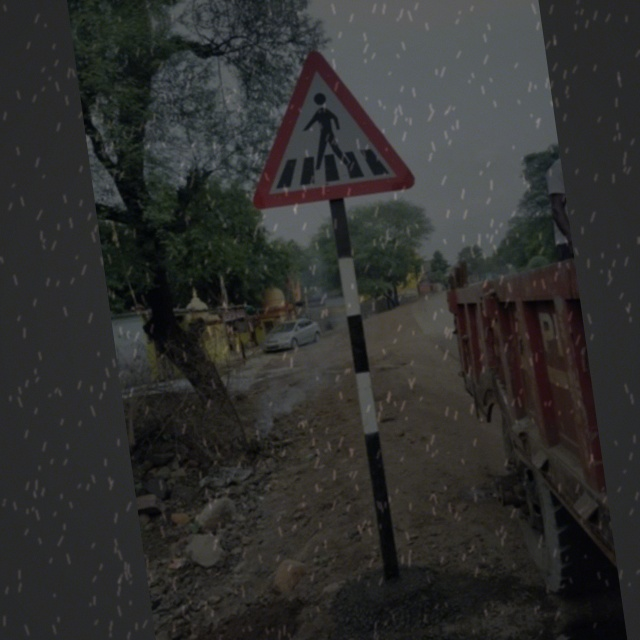Pedestrian_Crossing: (236, 27, 423, 212)
